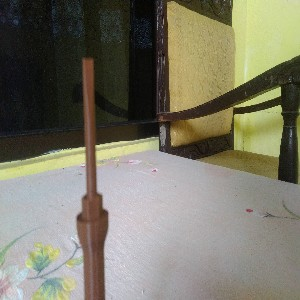obeng: (75, 55, 110, 300)
